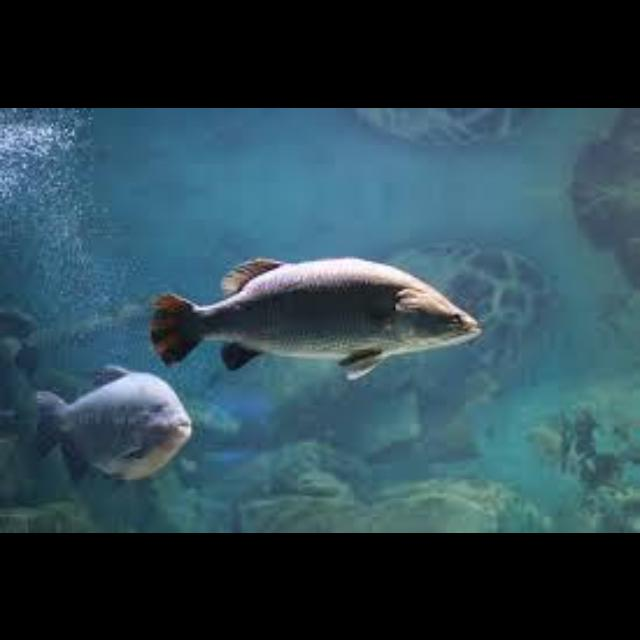Seabass: (150, 252, 480, 378)
